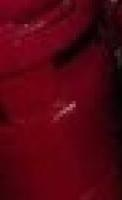cylinder: (1, 1, 122, 200)
